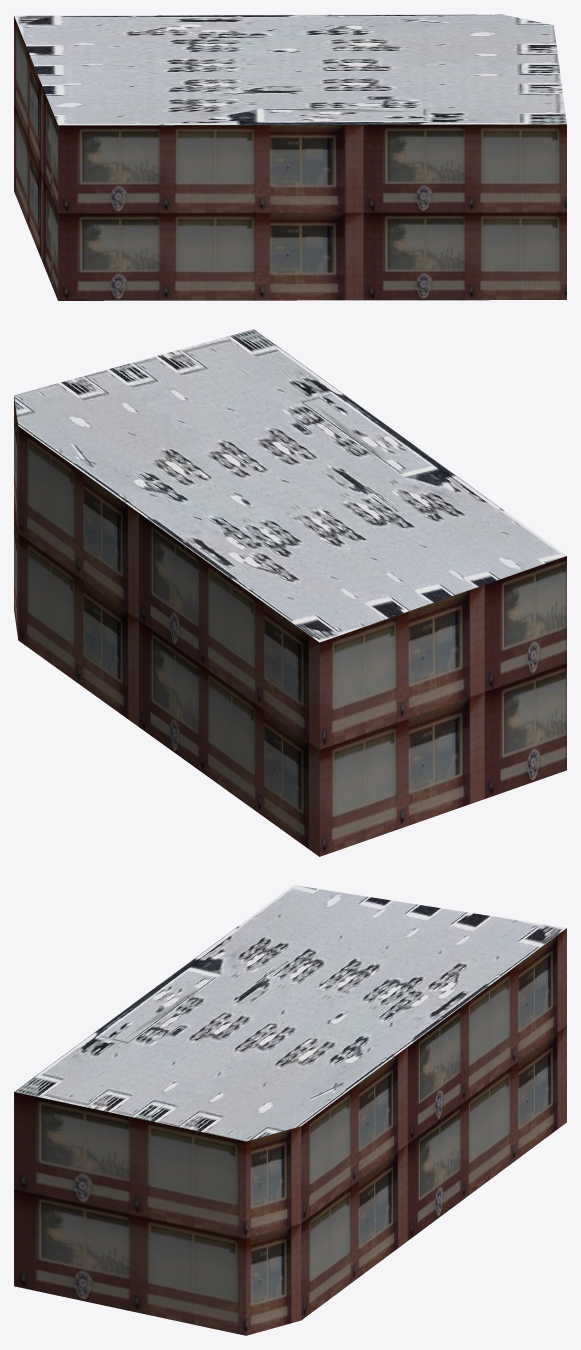
File: ResTex__708.fbx
3 views of the same model, one above another, from view 1: azimuth 30°, elevation 25°; view 2: azimuth 150°, elevation 25°; view 3: azimuth 270°, elevation 25° (orthographic). The views are drawn at different scales.
Visible parts, largest first — view 1: CityEngineMaterial_13_m, CityEngineMaterial_m; view 2: CityEngineMaterial_13_m, CityEngineMaterial_m; view 3: CityEngineMaterial_13_m, CityEngineMaterial_m.
Part boxes in pixels (bbox=[...]): CityEngineMaterial_13_m: bbox=[14, 16, 566, 300]; CityEngineMaterial_m: bbox=[14, 14, 566, 125]; CityEngineMaterial_13_m: bbox=[14, 397, 566, 856]; CityEngineMaterial_m: bbox=[14, 329, 566, 642]; CityEngineMaterial_13_m: bbox=[14, 928, 566, 1335]; CityEngineMaterial_m: bbox=[14, 885, 566, 1141].
Size of the model in its own units: 16.97 by 6 by 15.47.
2 materials, 2 textured.
